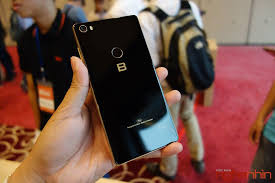bphone: (65, 12, 182, 165)
